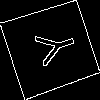Y: (25, 23, 79, 71)
